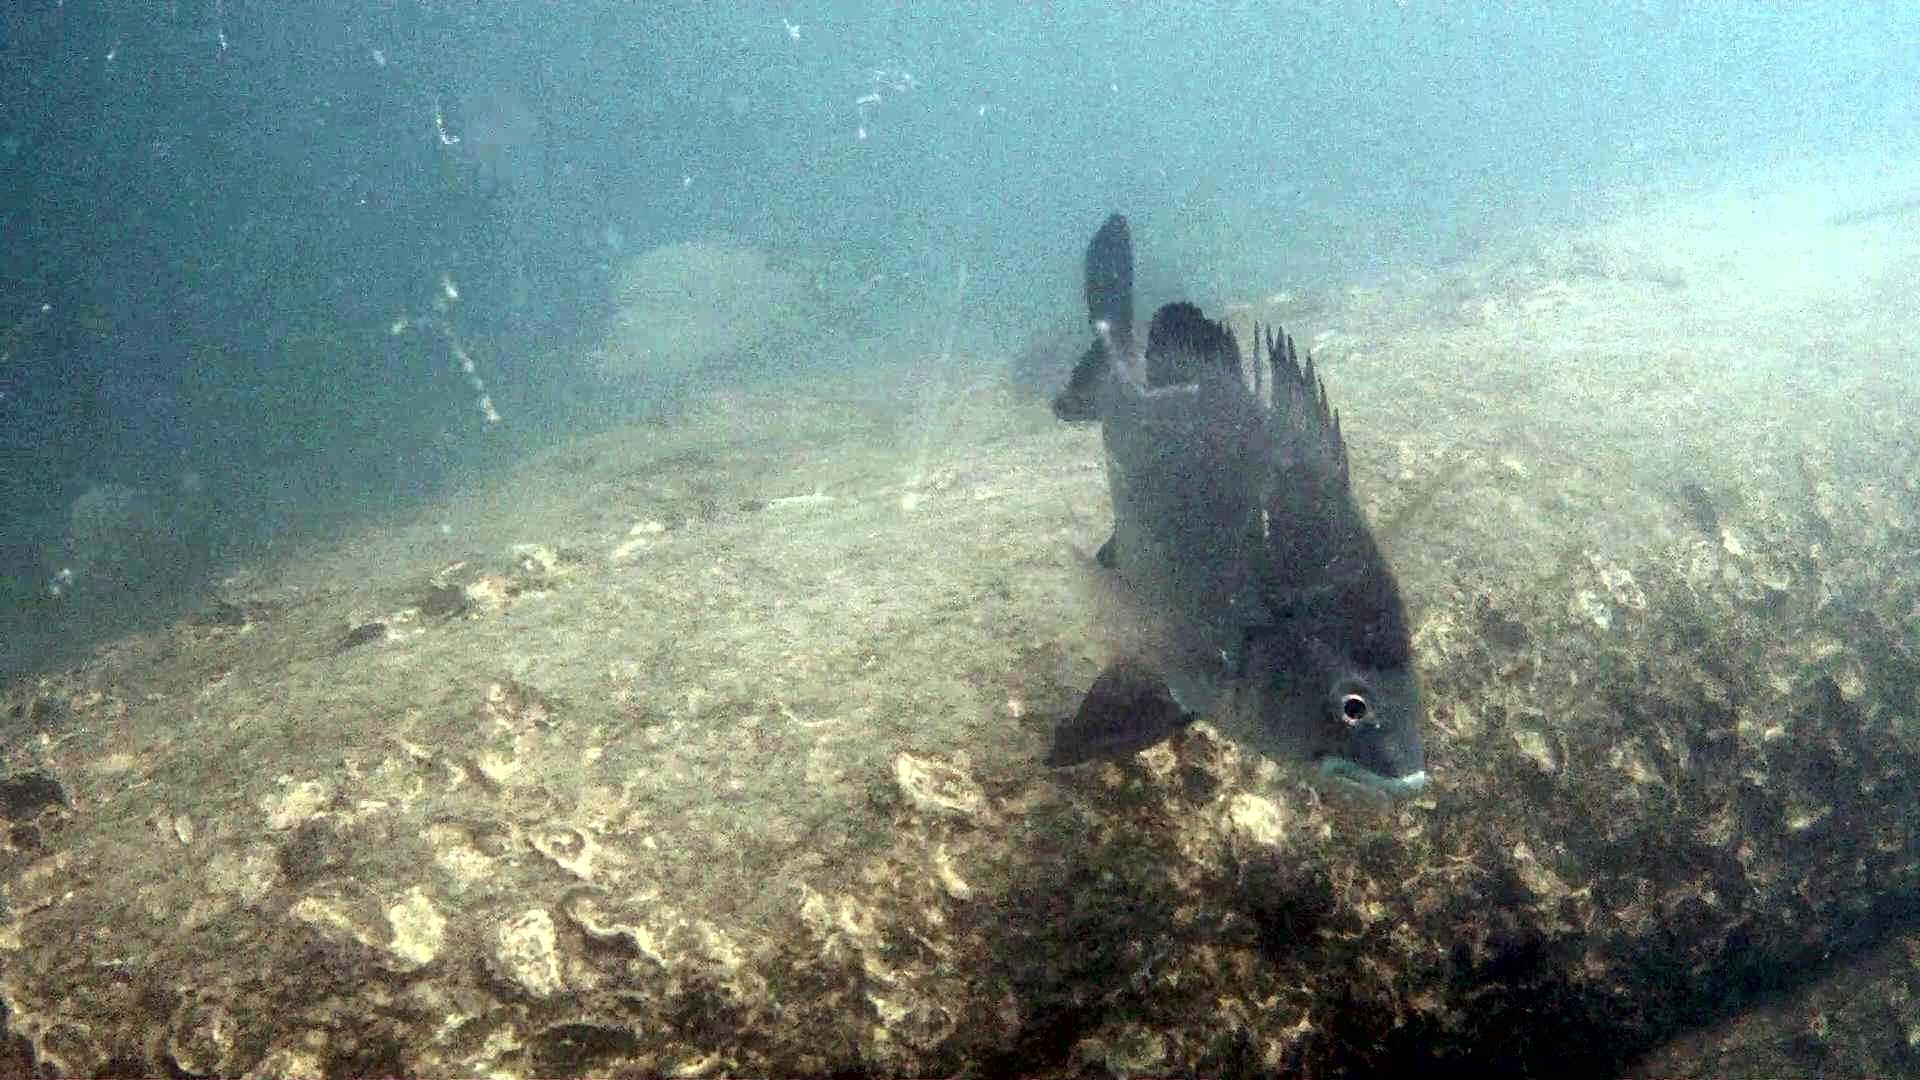acanthopagrus palmaris: (1030, 190, 1499, 820)
